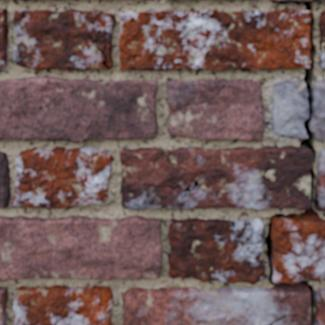brick: (120, 146, 310, 209), (119, 9, 309, 70), (0, 216, 161, 280), (0, 77, 157, 141), (123, 287, 309, 324), (0, 147, 111, 208), (169, 219, 264, 283), (13, 10, 115, 69), (167, 79, 264, 140), (13, 285, 112, 324), (272, 218, 324, 282), (315, 150, 324, 210), (0, 10, 7, 66), (315, 289, 324, 324), (0, 287, 7, 324), (320, 11, 324, 67), (106, 39, 112, 66)
broken_brick: (272, 80, 307, 139), (312, 84, 324, 139)
crack: (265, 0, 324, 324), (87, 33, 110, 69), (269, 314, 287, 324)
